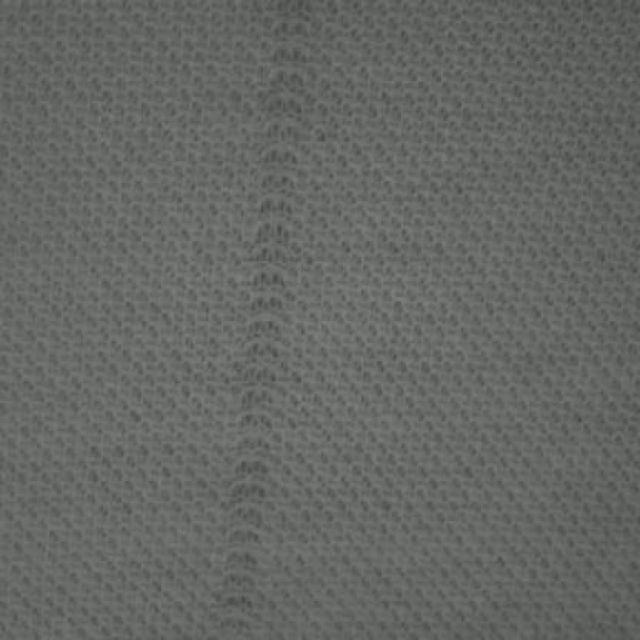Line: (215, 1, 311, 638)
